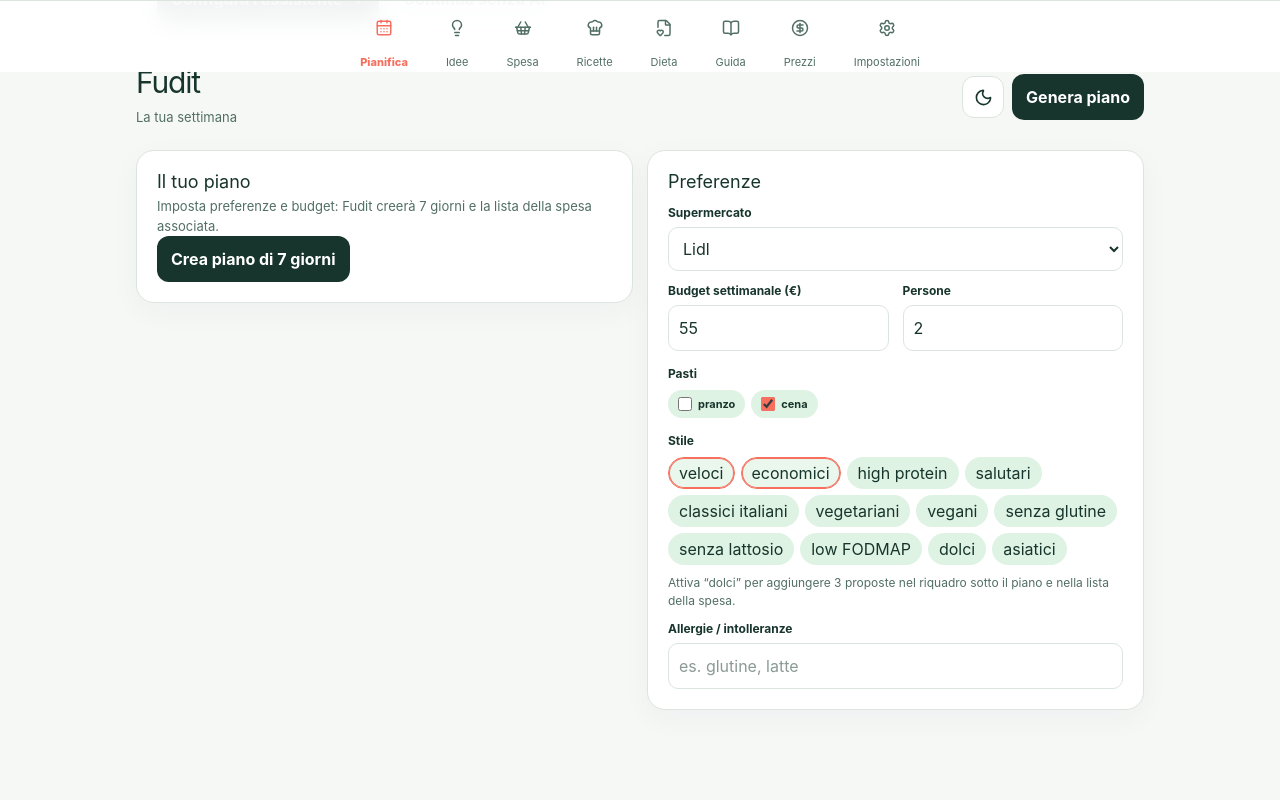
Test: flussi principali Fudit › genera un piano low FODMAP e ne mostra macro e avvertenze
This screenshot has width=1280, height=800.
(page scrolled)
Expected: the heading "Il tuo piano" is shown, [157,171,251,192]
Step 1. Click the button "low FODMAP" → (861, 549), box [800,533,922,565]
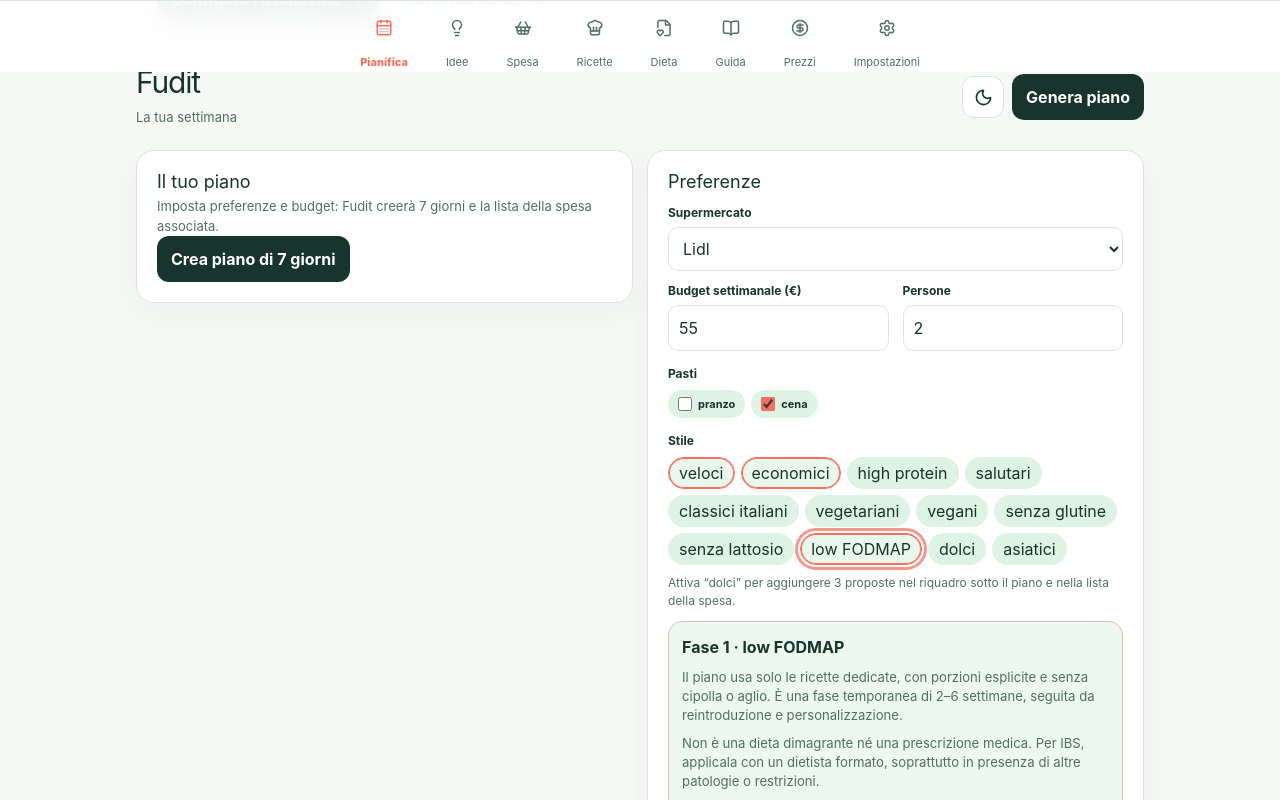
Now the text "Fase 1 · low FODMAP" is shown, box [682,637,844,657]
Step 2. Click the button "Genera piano" → (1078, 97), box [1012,74,1144,120]
(page scrolled)
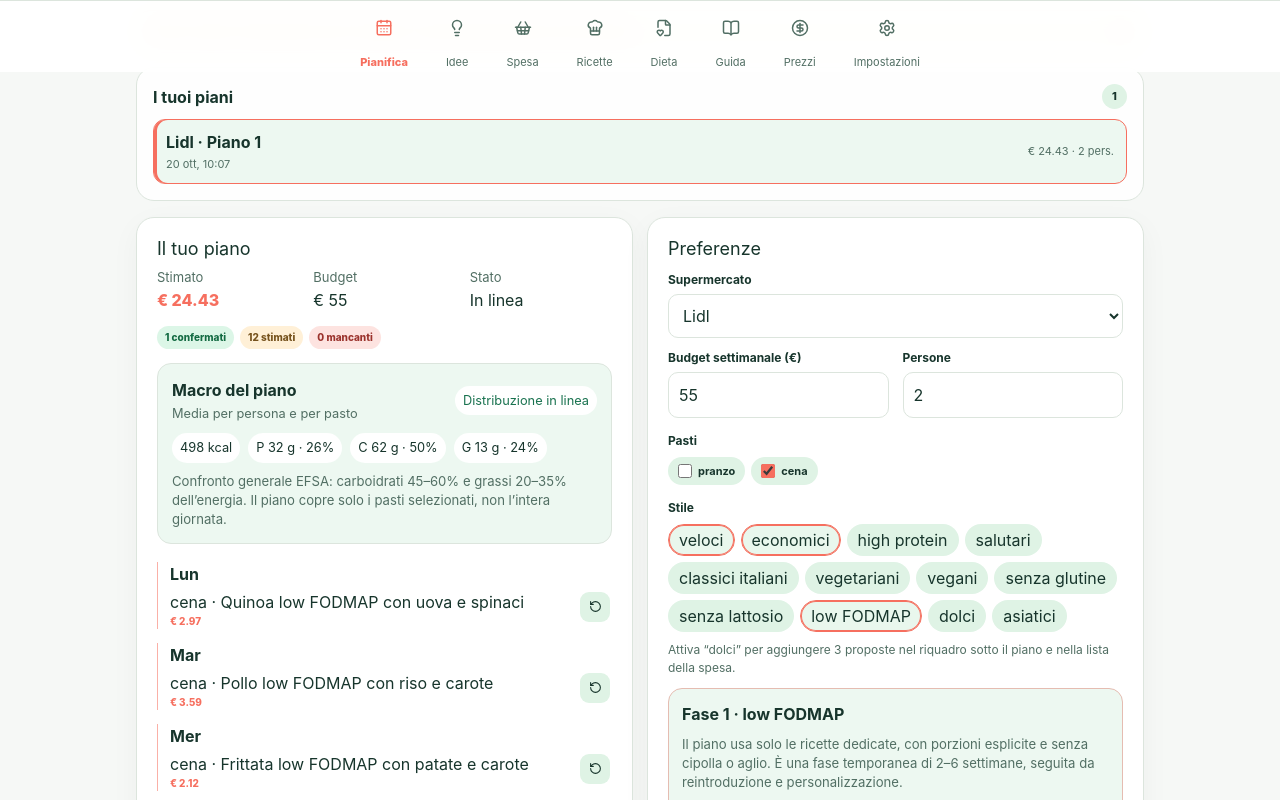
Now the text "Macro del piano" is shown, box [172,380,297,400]
Now the text "Distribuzione in linea" is shown, box [455,386,597,415]
Now the text "cena · Quinoa low FODMAP con uova e spinaci € 2.97" is shown 7 times
